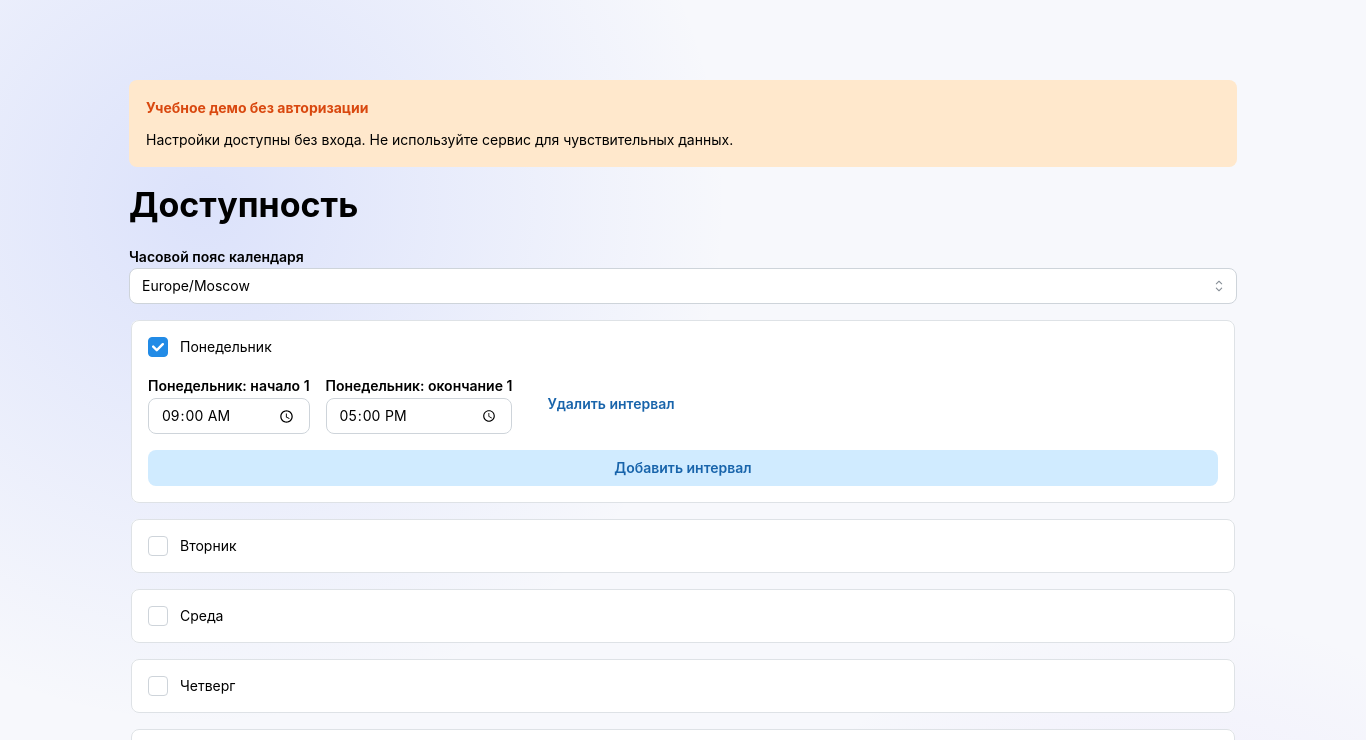
Test: управление Доступностью › Владелец изменяет недельную Доступность и Часовой пояс календаря
The width and height of the screenshot is (1366, 740).
Click the checkbox labelled "Понедельник": (158, 347) [148, 337, 168, 357]
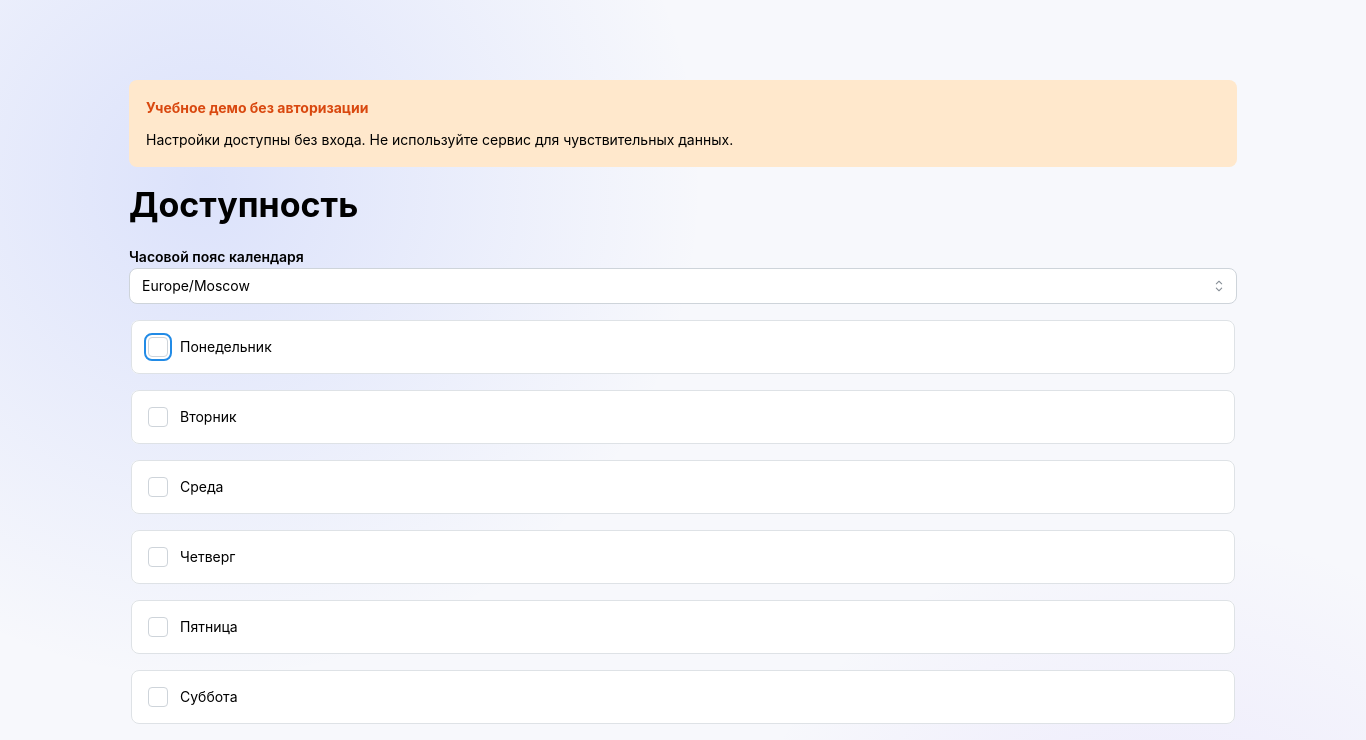
Expected: the checkbox labelled "Понедельник" is not checked
Click the checkbox labelled "Понедельник": (158, 347) [148, 337, 168, 357]
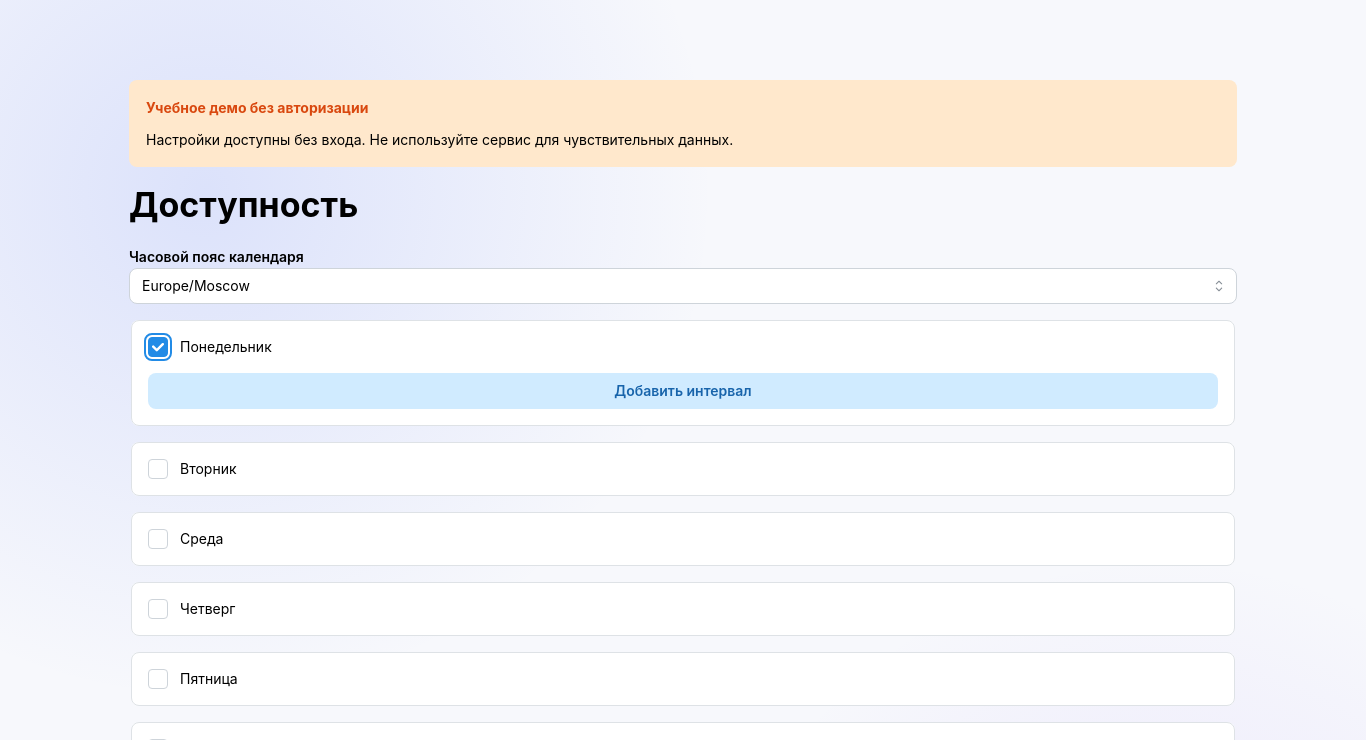
Click the button "Добавить интервал": (683, 391) [148, 373, 1218, 409]
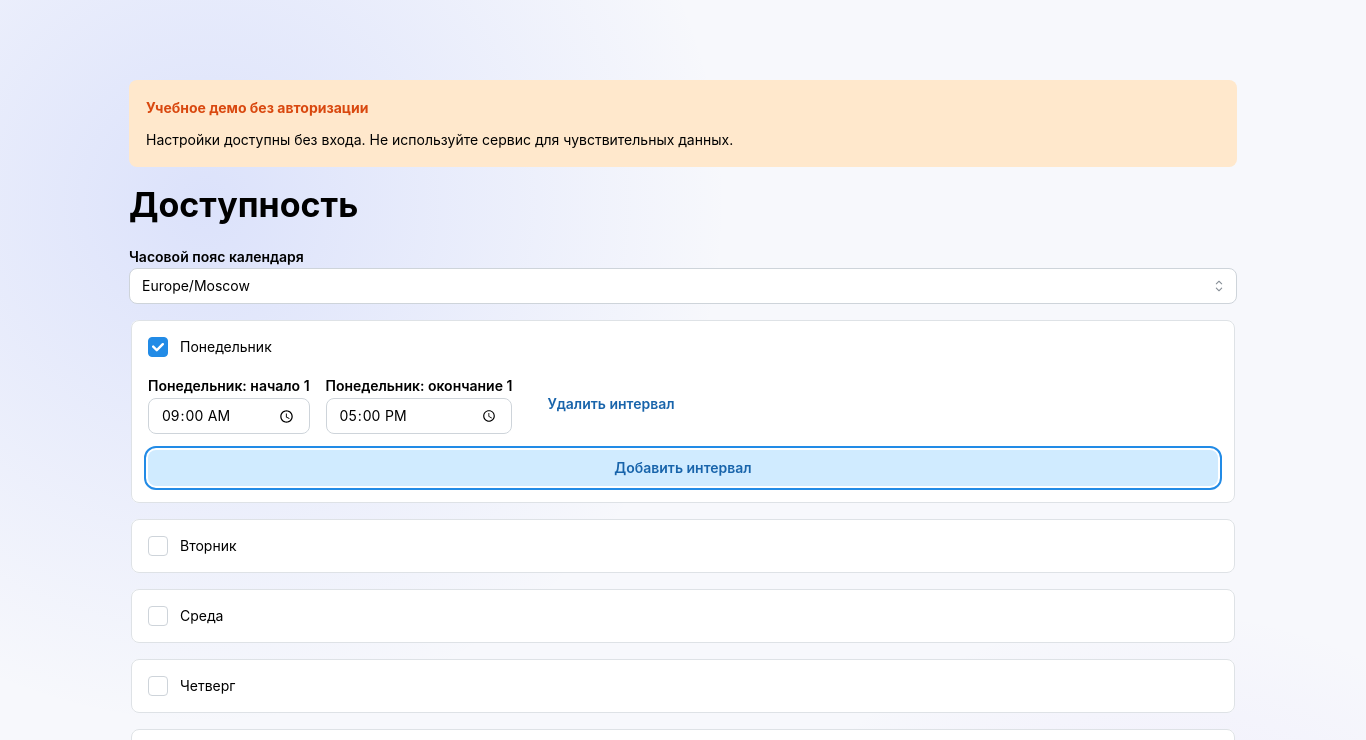
Replace the text in the time field labelled "Понедельник: начало 1" with "10:00": (229, 416) [148, 398, 310, 434]
Replace the text in the time field labelled "Понедельник: окончание 1" with "16:00": (419, 416) [326, 398, 512, 434]
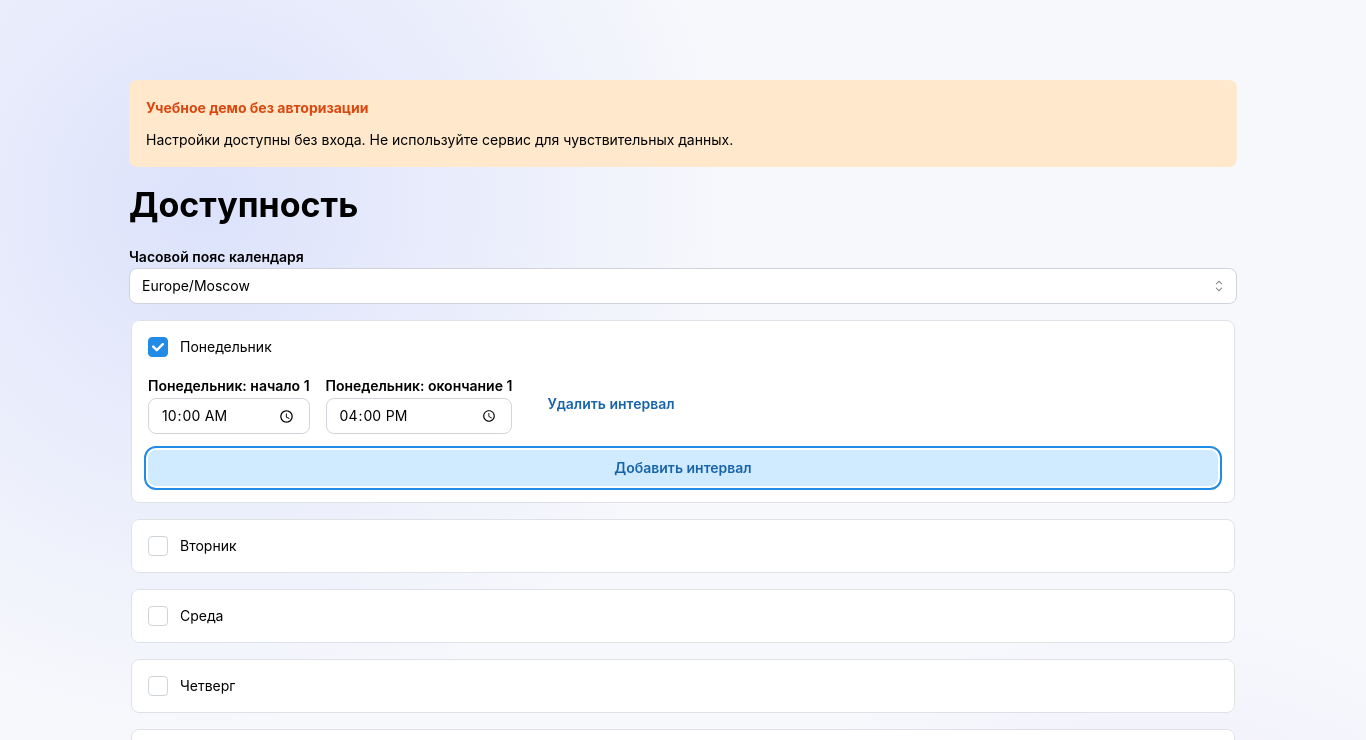
Select "Asia/Tokyo" in the dropdown labelled "Часовой пояс календаря": (683, 286) [129, 268, 1237, 304]
(page scrolled)
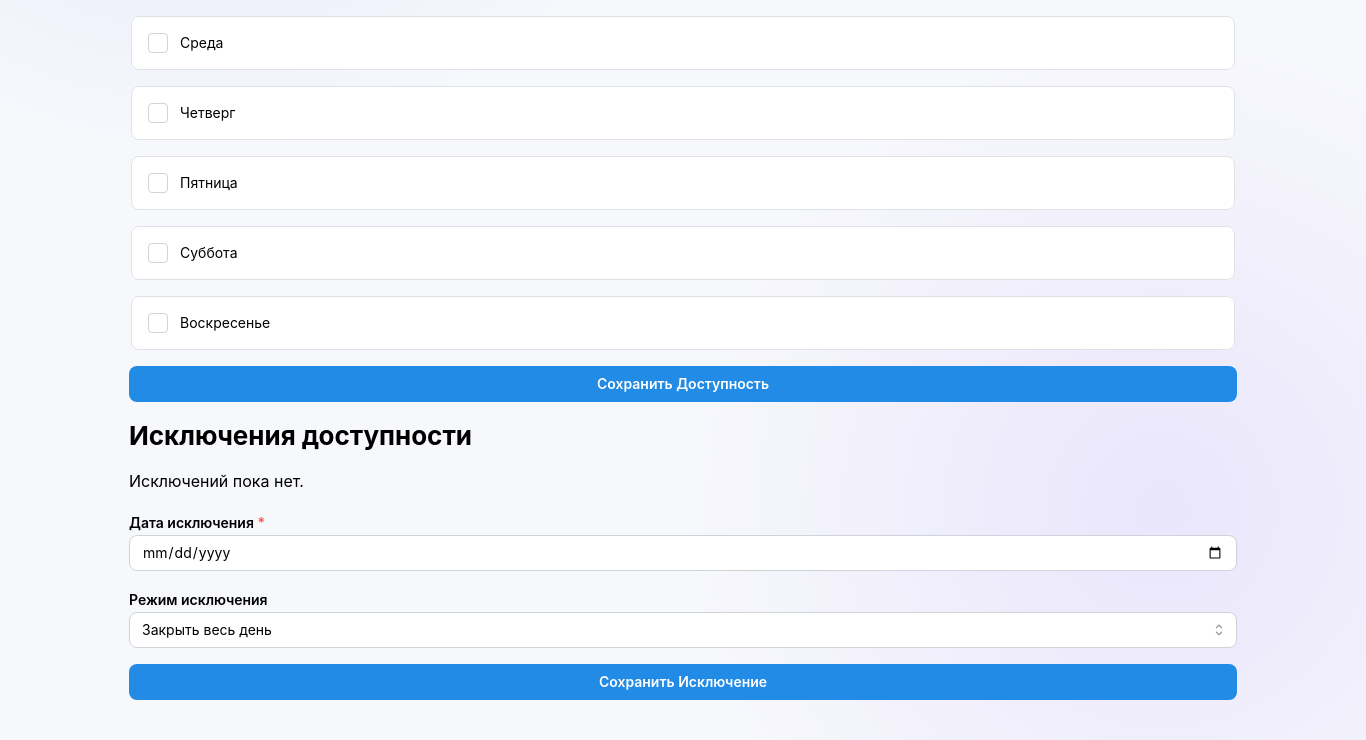
Click the button "Сохранить Доступность": (683, 384) [129, 366, 1237, 402]
(page scrolled)
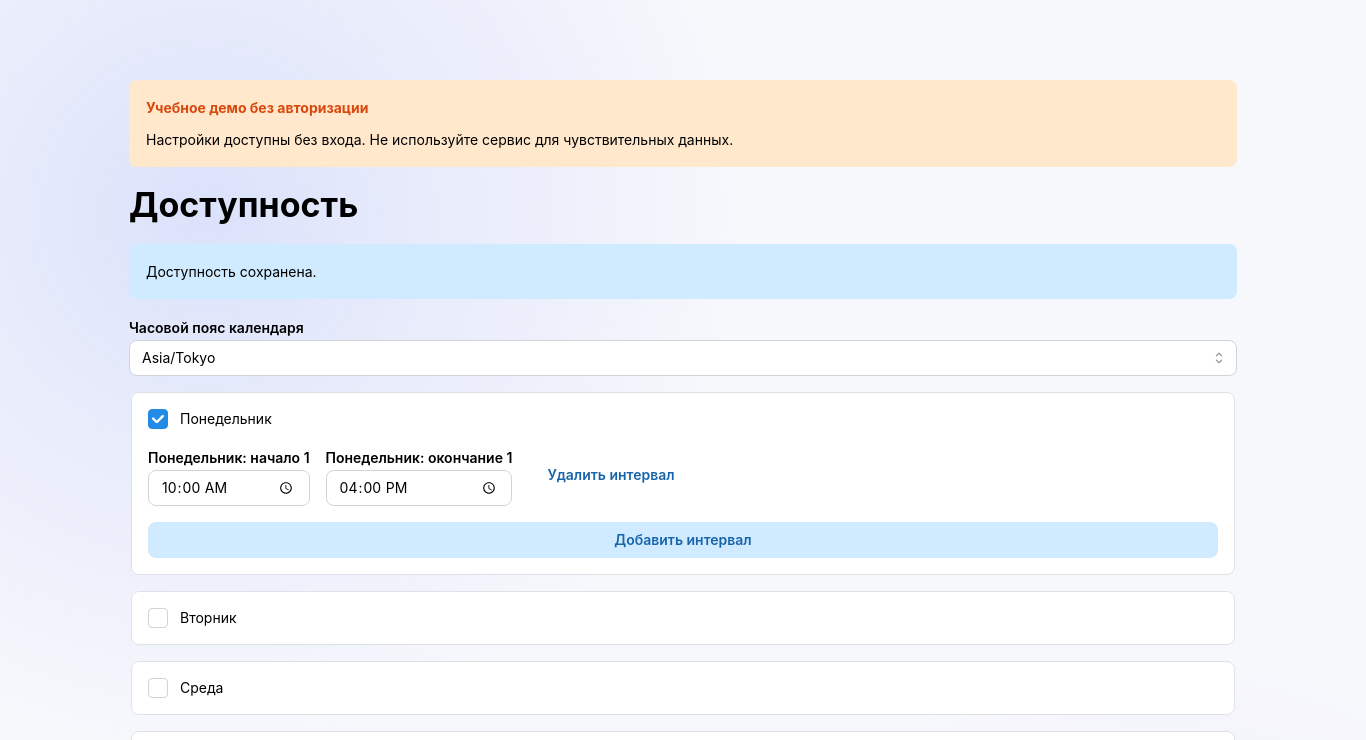
Expected: the text "Доступность сохранена." is shown, [146, 263, 317, 280]
